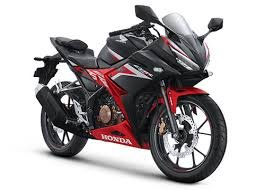motor: (33, 8, 229, 184)
